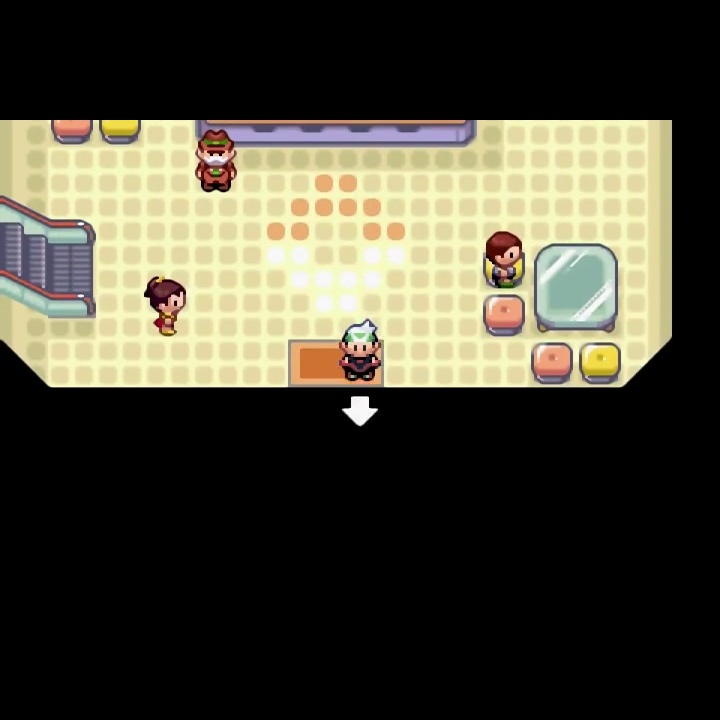agent: (337, 317, 383, 384)
exit: (285, 335, 386, 452)
npc: (193, 127, 241, 198), (142, 275, 188, 339), (482, 229, 525, 293)
